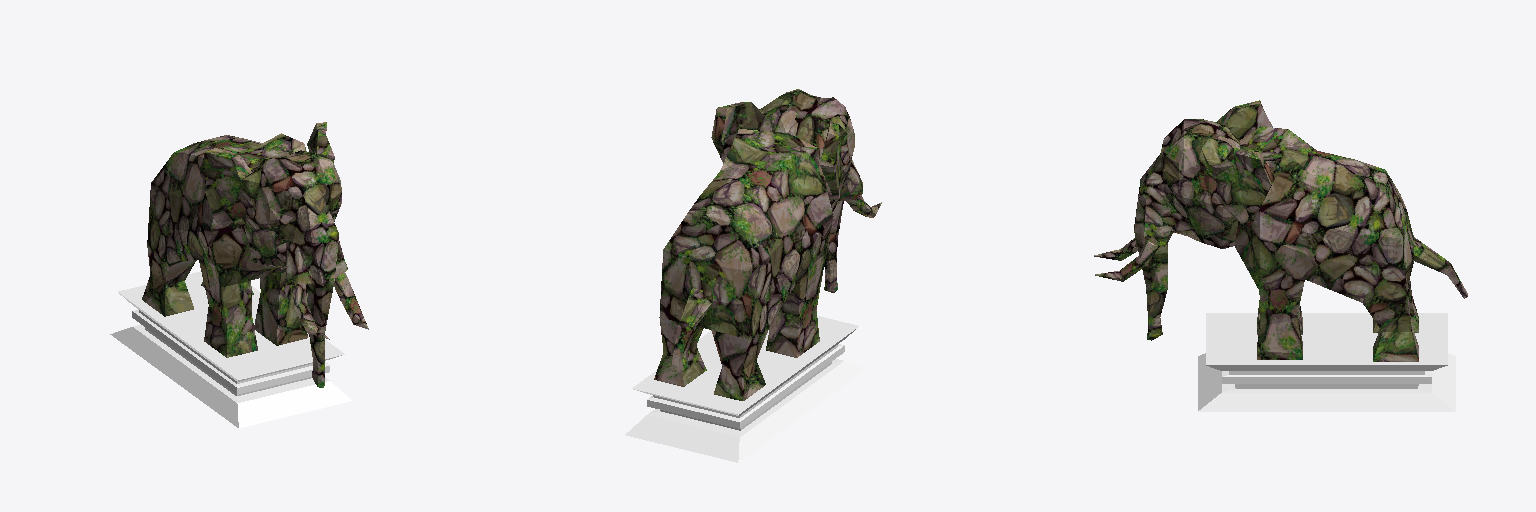
3 renders of one model, left to right at view 1: azimuth 30°, elevation 25°; view 2: azimuth 150°, elevation 25°; view 3: azimuth 270°, elevation 25°, orthographic.
Visible parts, largest first — view 1: Elephant_Tusked:Elephant_mesh1; view 2: Elephant_Tusked:Elephant_mesh1; view 3: Elephant_Tusked:Elephant_mesh1.
Boxes of the visible parts, x1=… form: Elephant_Tusked:Elephant_mesh1: x1=110, y1=122, x2=368, y2=428; Elephant_Tusked:Elephant_mesh1: x1=625, y1=89, x2=881, y2=462; Elephant_Tusked:Elephant_mesh1: x1=1094, y1=100, x2=1467, y2=411.
Size of the model in its own units: 3.95 by 7.95 by 10.56.
Materials: 2 (1 with a texture image).